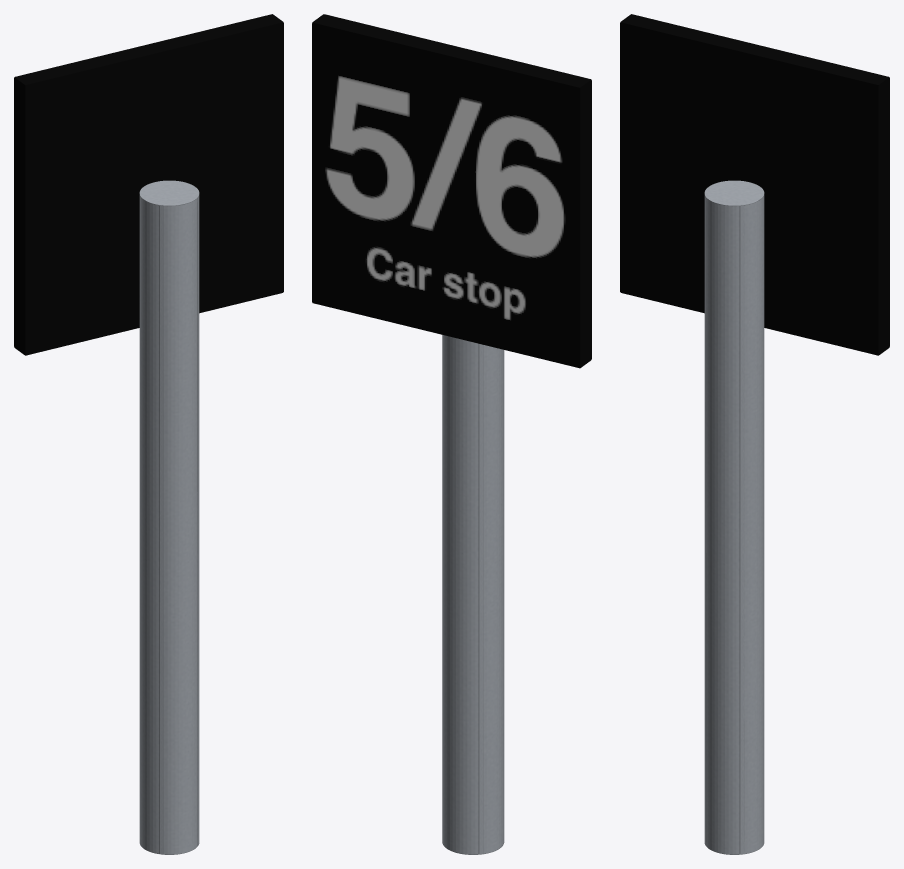
File: 56mark.obj
3 views of the same model, side by side, from view 1: azimuth 30°, elevation 25°; view 2: azimuth 150°, elevation 25°; view 3: azimuth 330°, elevation 25° (orthographic). The views are drawn at different scales.
Visible parts, largest first — view 1: cube, cylinder; view 2: cube, cylinder; view 3: cube, cylinder.
Part boxes in pixels (x1=…): cube: x1=14, y1=14, x2=283, y2=355; cylinder: x1=139, y1=180, x2=199, y2=854; cube: x1=312, y1=14, x2=591, y2=368; cylinder: x1=442, y1=335, x2=504, y2=854; cube: x1=620, y1=14, x2=889, y2=355; cylinder: x1=704, y1=180, x2=764, y2=854.
Size of the model in its own units: 0.625 by 1.8 by 0.1719.
1 material, 1 textured.
